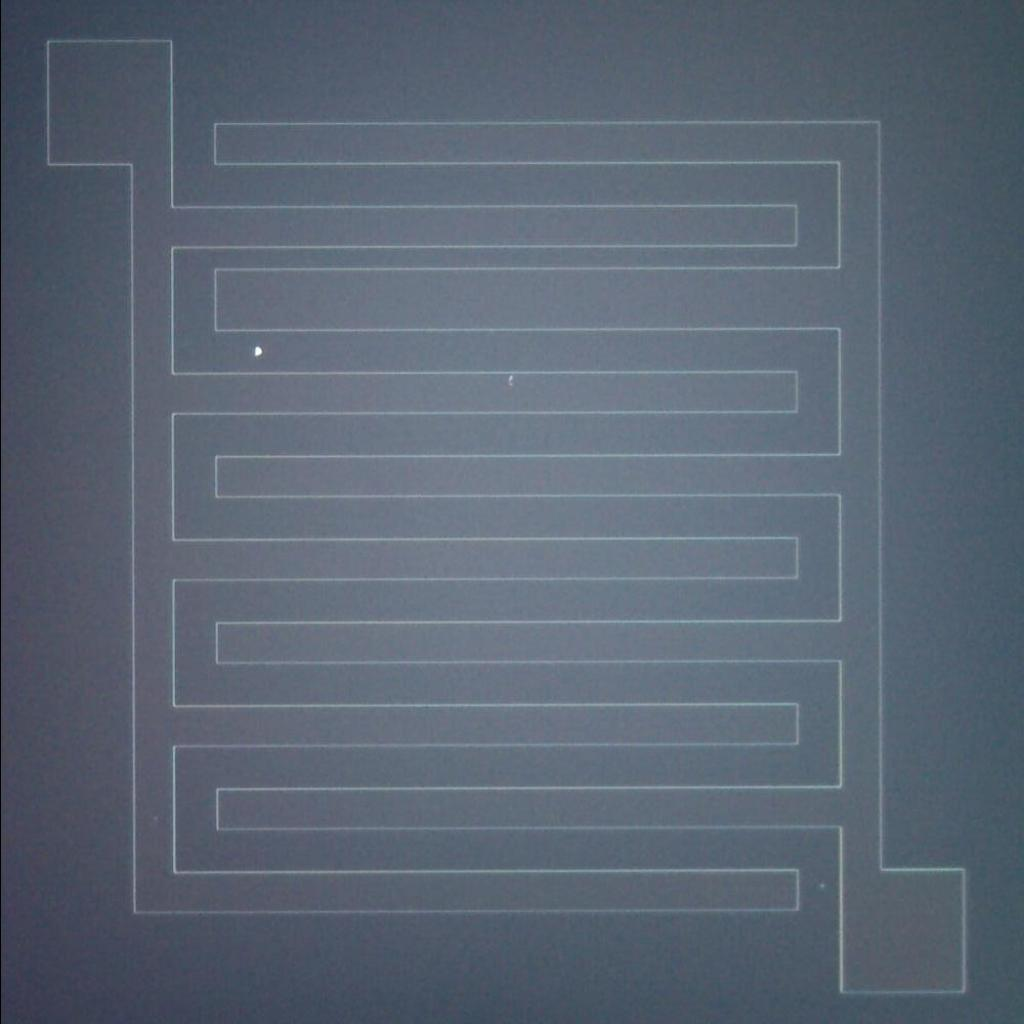fat circuit: (210, 262, 852, 338)
spot: (245, 340, 272, 362)
